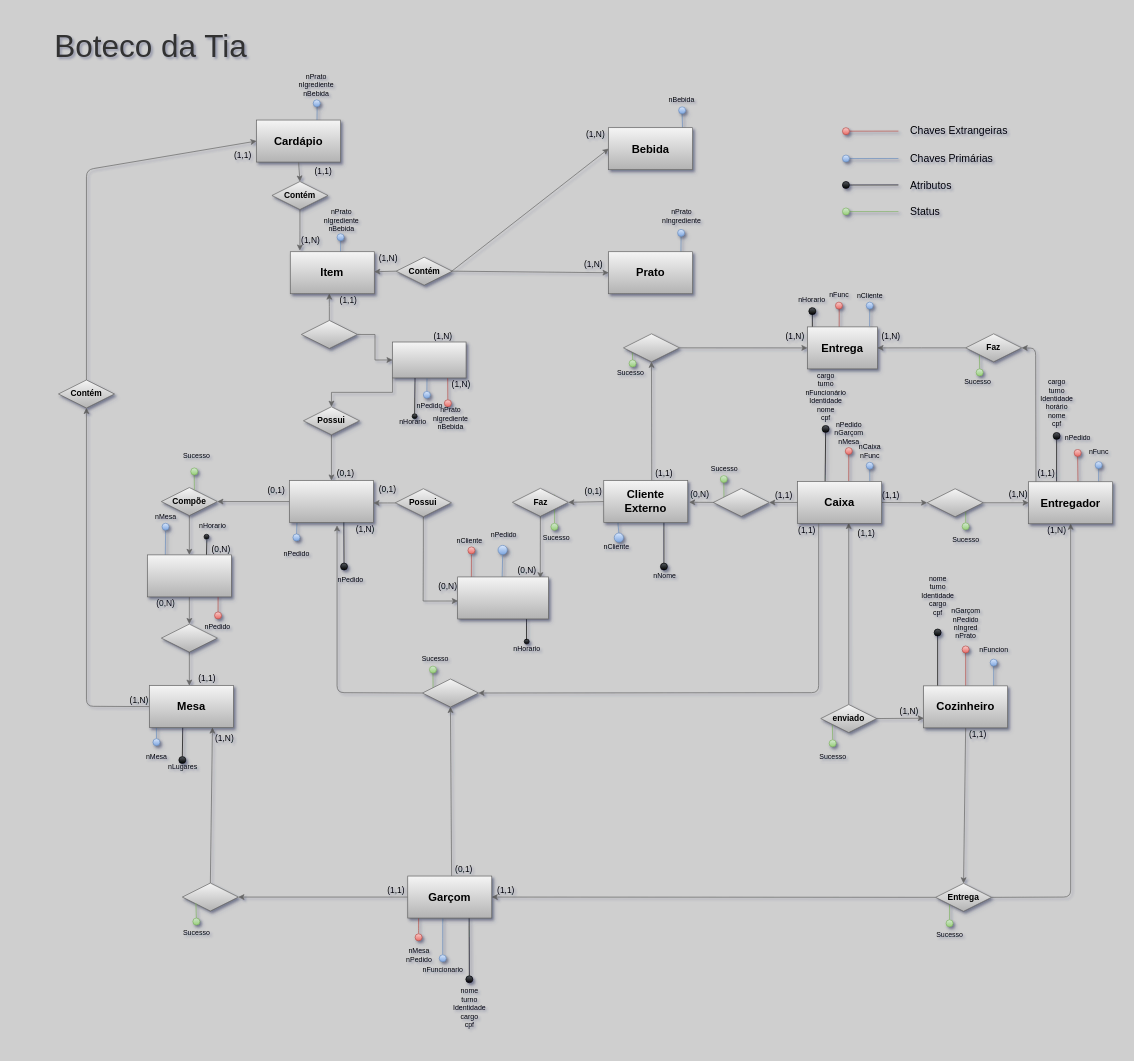
This 1134x1061 diagram has some shape labels left out. Each missing label, with the centre of its shape:
Autoriza: point (955, 503)
ClienteExt_Pedido: point (503, 598)
Composto: point (190, 639)
Fideliza: point (742, 503)
Itens_Pedidos: point (429, 361)
Mesa_Pedido: point (190, 576)
Pedido: point (332, 502)
Pertence: point (330, 335)
Recebe: point (652, 348)
Registra: point (451, 694)
Servir: point (211, 898)
